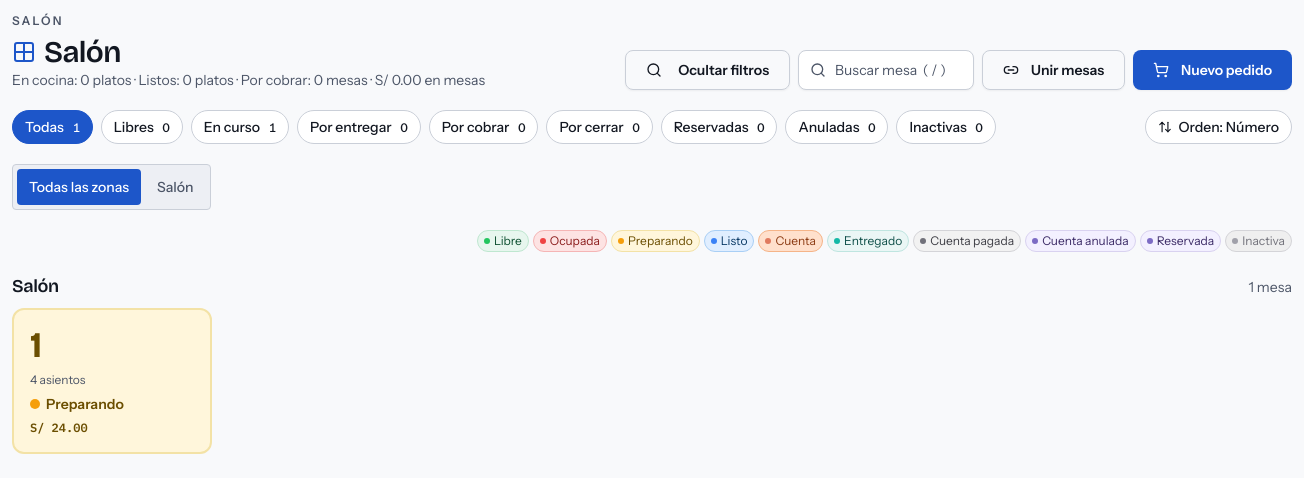
compositor · paridad posView (S8) › anchors the ticket actions above mobile navigation without full-width overflow
This screenshot has width=1304, height=478.
Click the element with test id "mesa-card-1" at (112, 381), box [12,308,212,454]
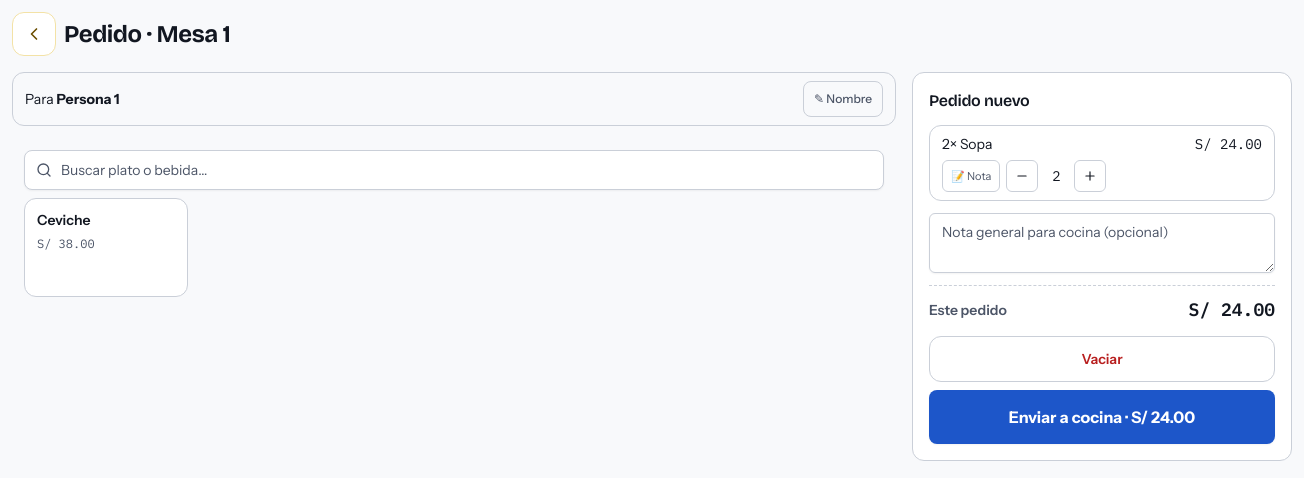
Expected: the button with test id "mesa-sheet-enviar-cocina" is shown, [929,390,1275,444]
Expected: the button with test id "mesa-sheet-vaciar" is shown, [929,336,1275,382]
